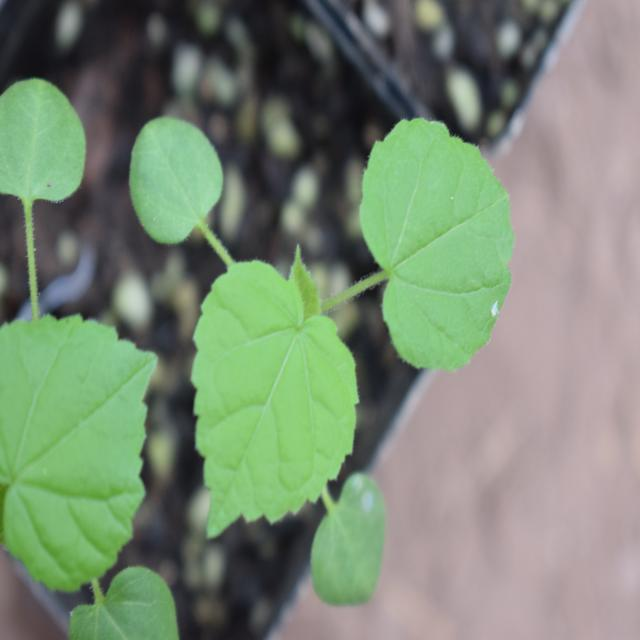abutilon theophrasti: (152, 80, 500, 578)
